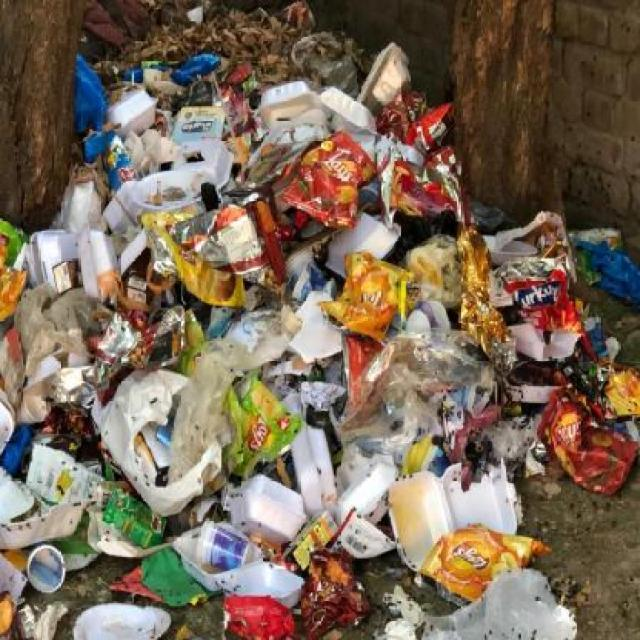garbage: (0, 11, 639, 631)
